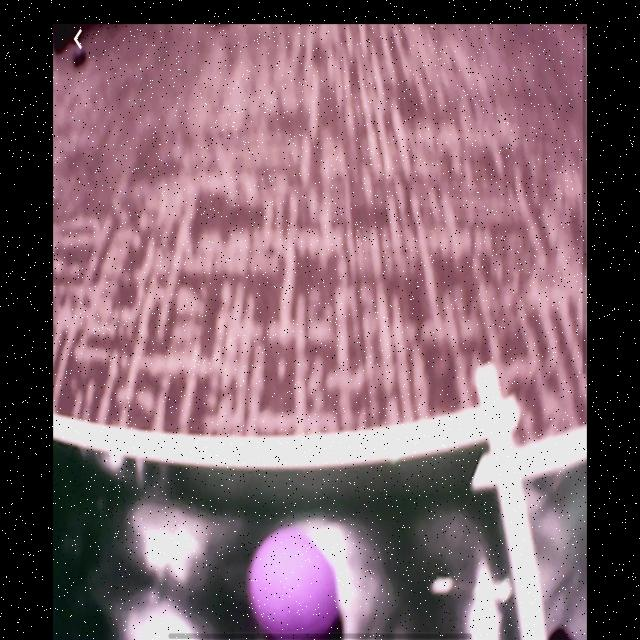ball: (249, 528, 338, 639)
